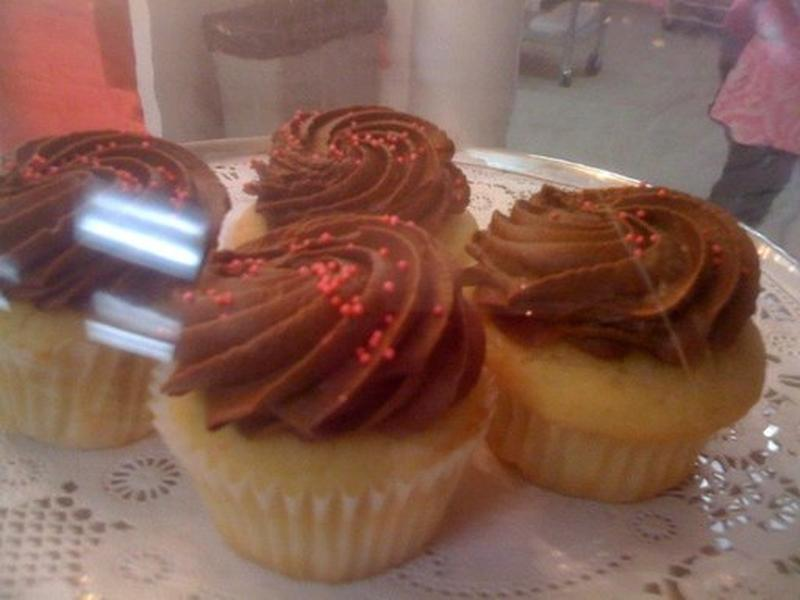cup_cake: (178, 35, 565, 591)
